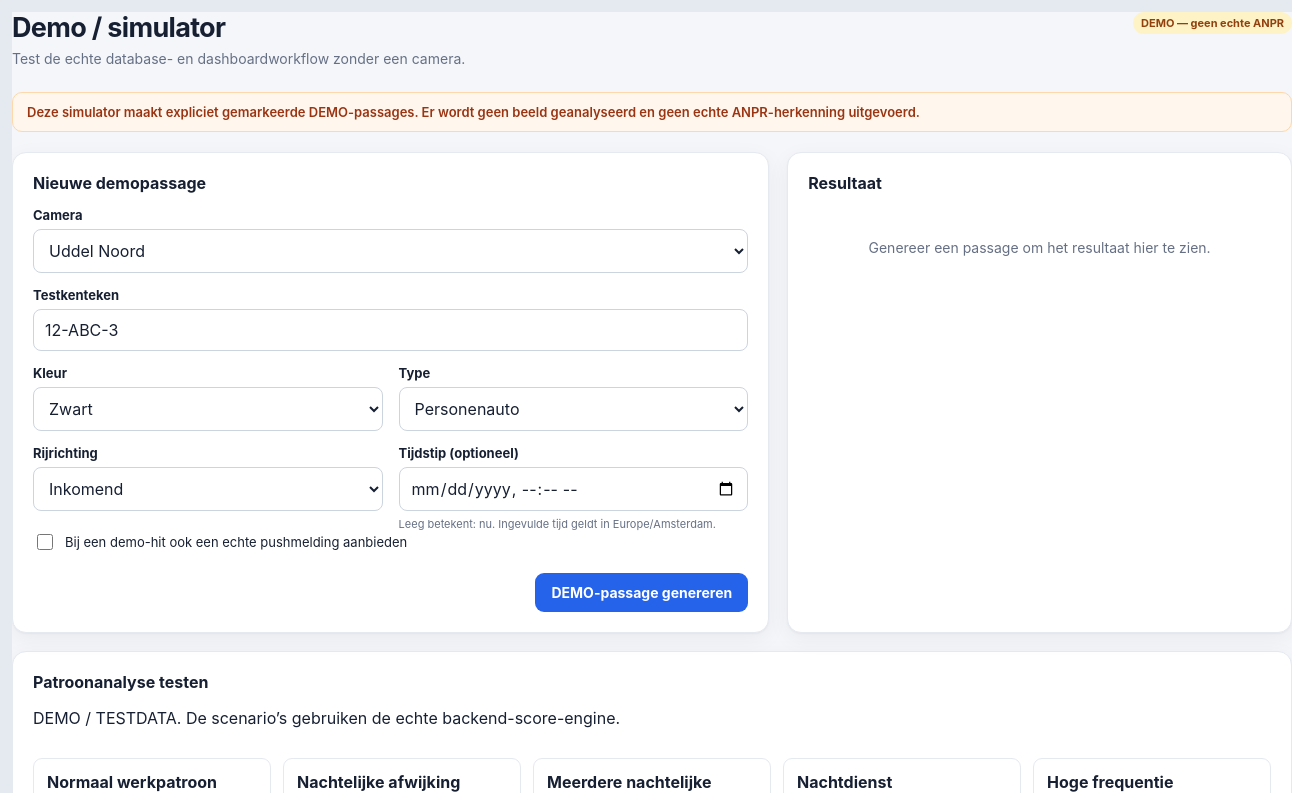
Test: simulator camerakeuze › stuurt gekozen rijrichting en tijdstip gecontroleerd mee
Select "Uitgaand" in the dropdown named "Rijrichting" at [208, 489], box top-left (33, 467), bottom-right (383, 511)
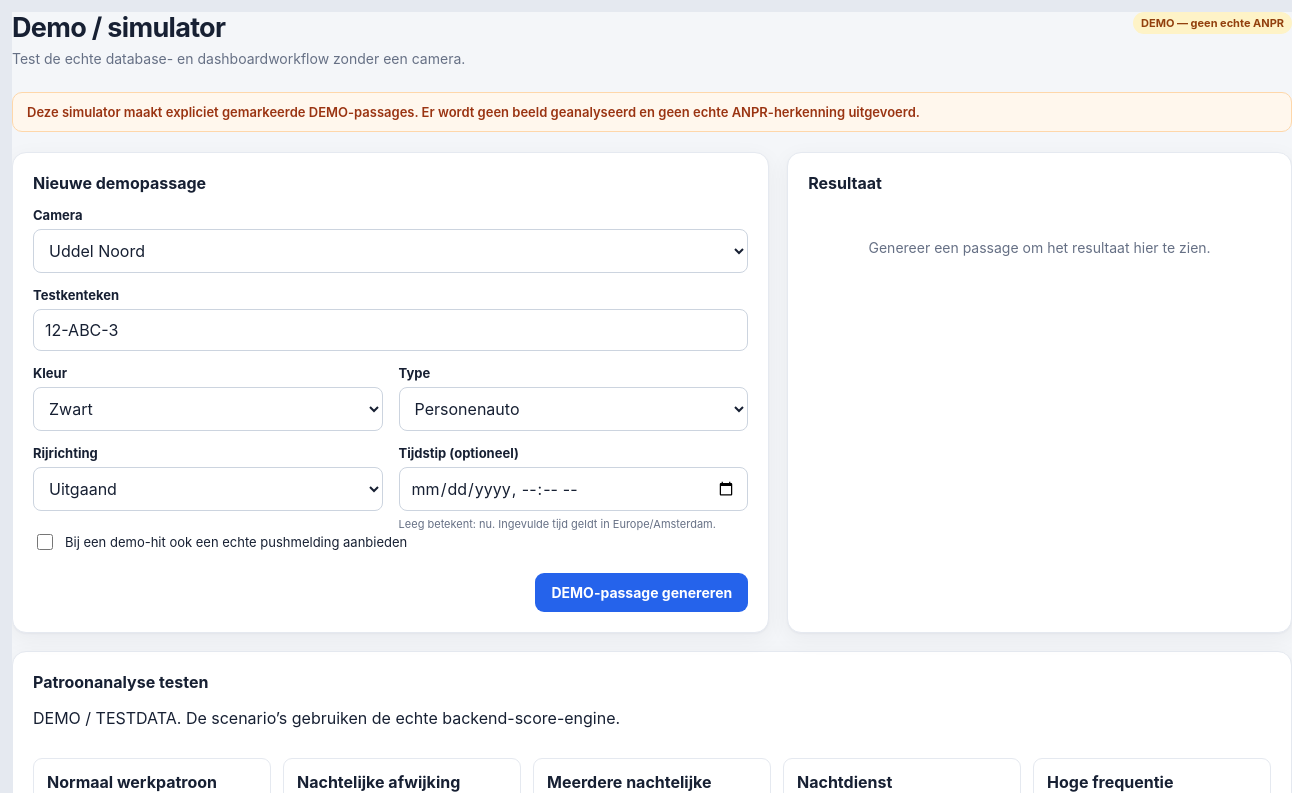
Type "2026-09-03T20:15" into the field named "Tijdstip (optioneel)" at [573, 489], box top-left (399, 467), bottom-right (748, 511)
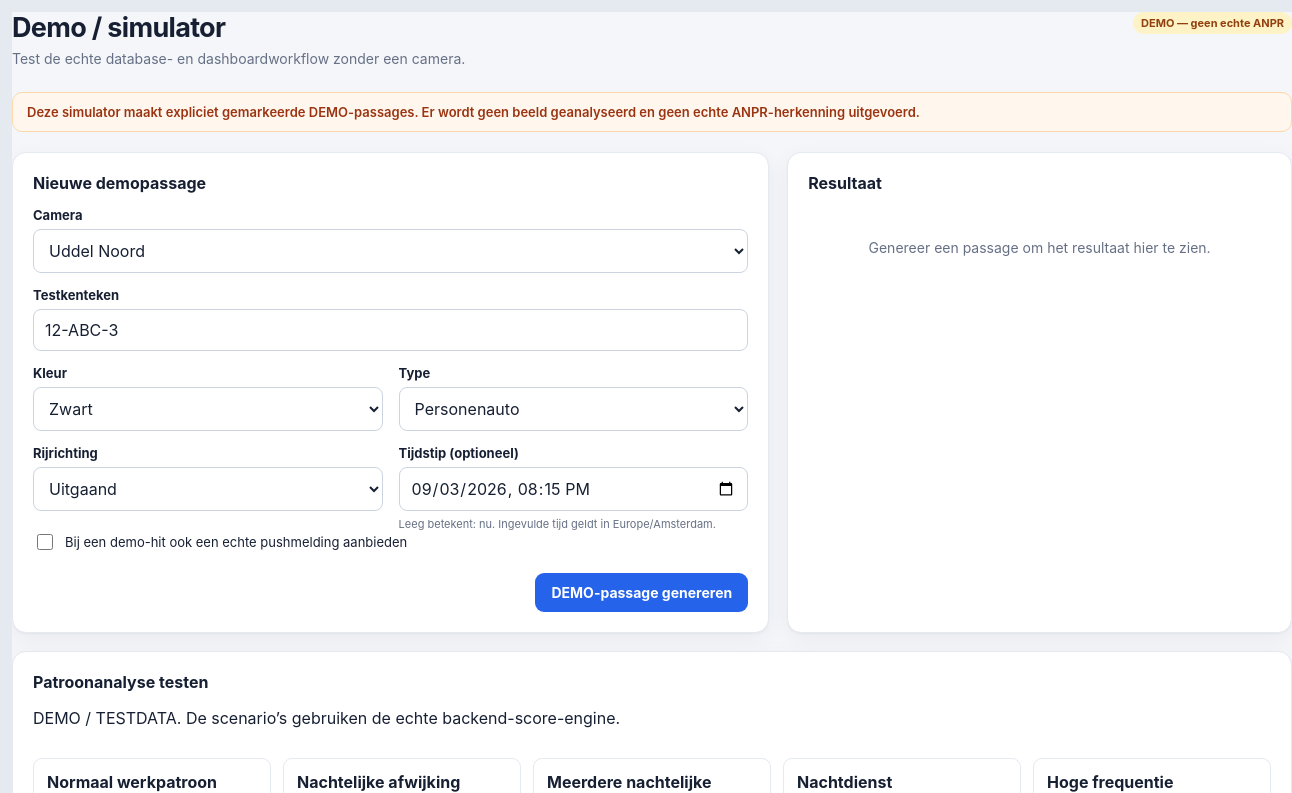
Click the button "DEMO-passage genereren" at [642, 593], box top-left (535, 573), bottom-right (748, 612)
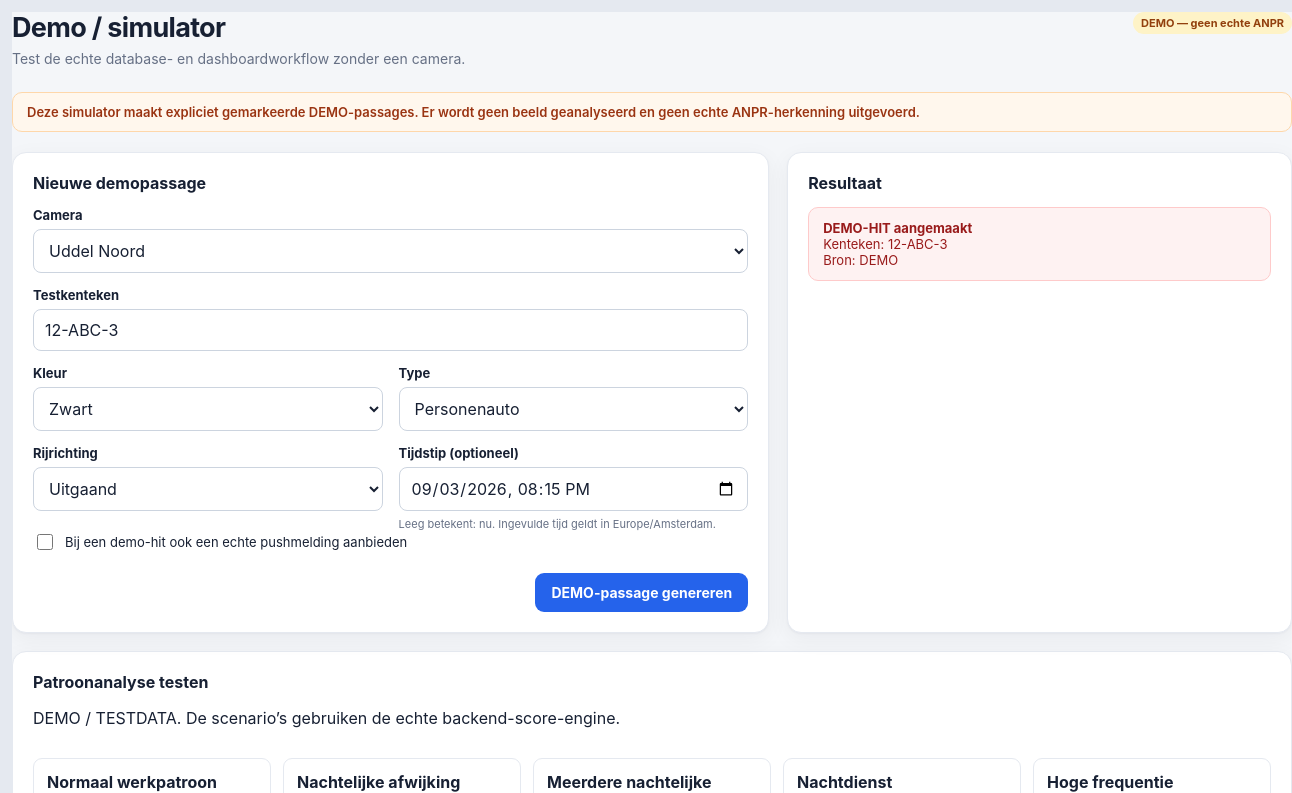
Check: the text "DEMO-HIT aangemaakt" is shown, box top-left (823, 220), bottom-right (972, 236)
